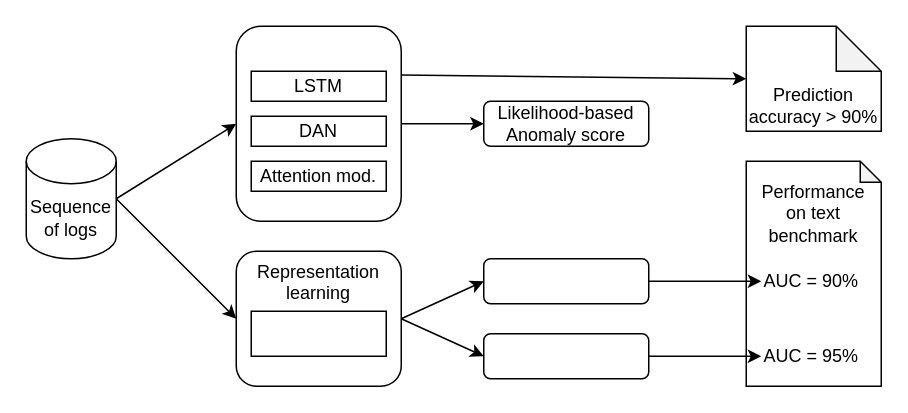
Some shapes in this 908 by 413 pixel diagram are drawn without their labels. Here are the shapes that lost their labels. From the top down, the box of each, then its label:
(235, 25, 401, 221): Next log prediction
(482, 257, 649, 304): Deep SVDD
(250, 310, 386, 356): LSTM Auto-Encoder
(482, 332, 649, 379): Unsupervised risk
